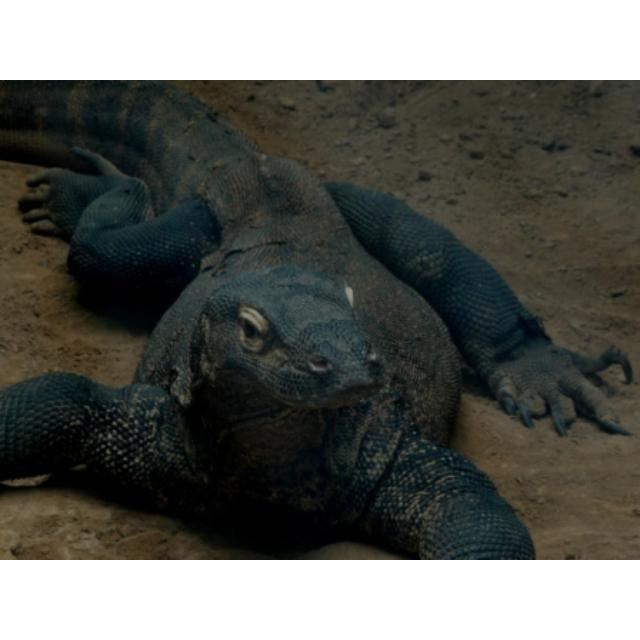KomodoDragon: (1, 83, 636, 557)
